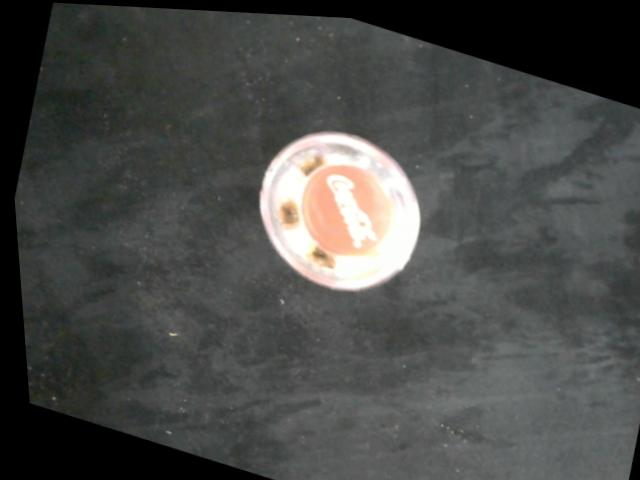bottle: (232, 105, 442, 310)
